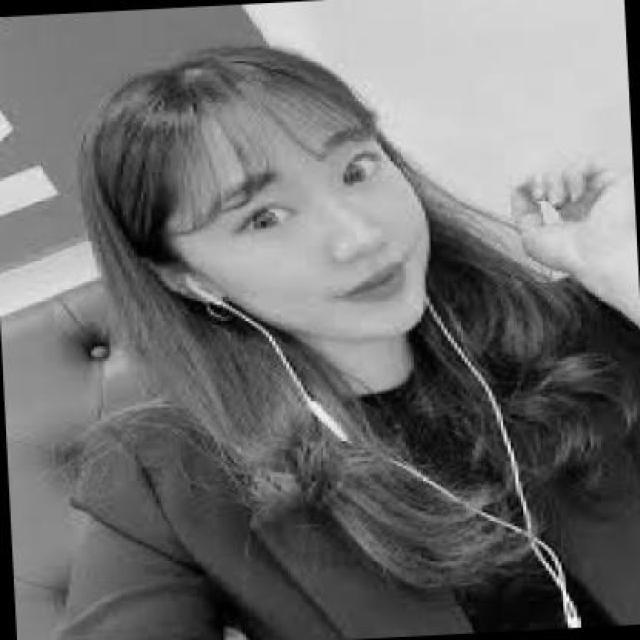earphone: (177, 264, 270, 343)
